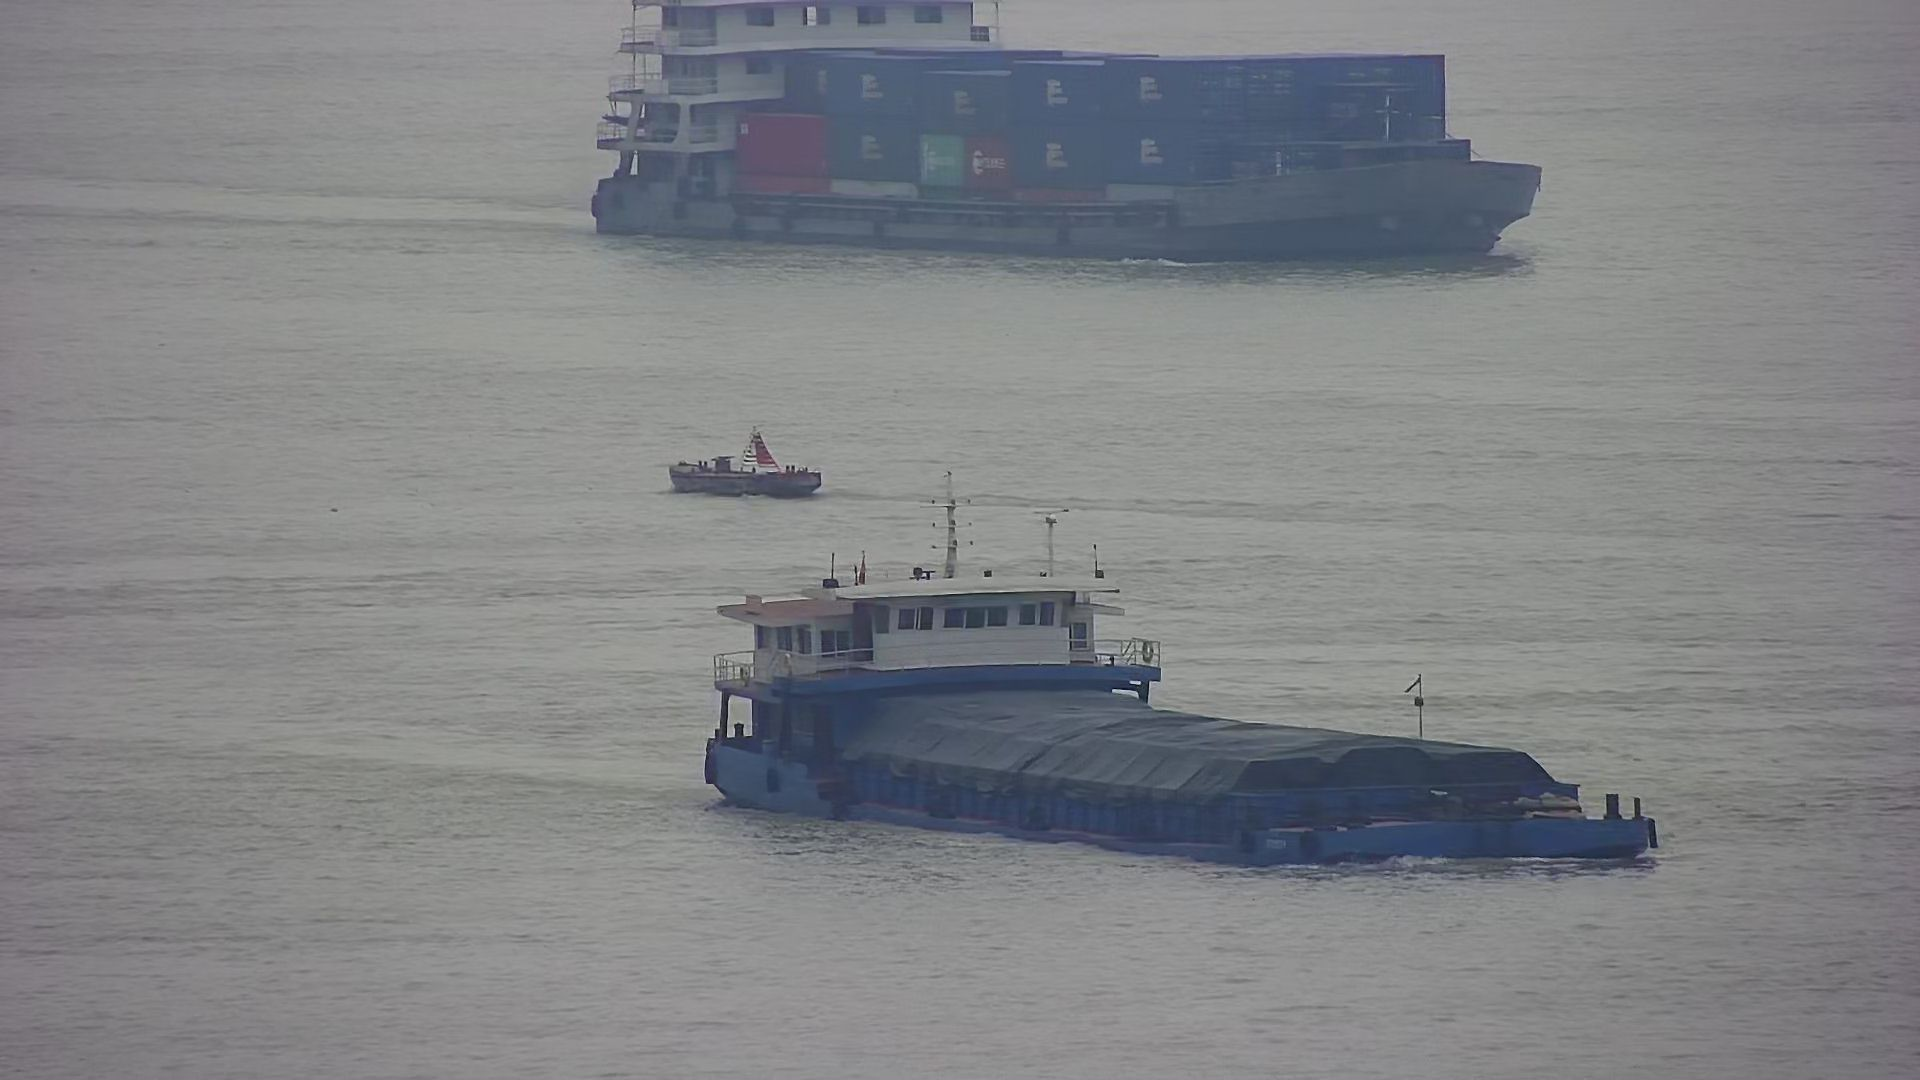boat: (667, 427, 822, 496)
ship: (705, 477, 1665, 866), (591, 3, 1542, 252)
